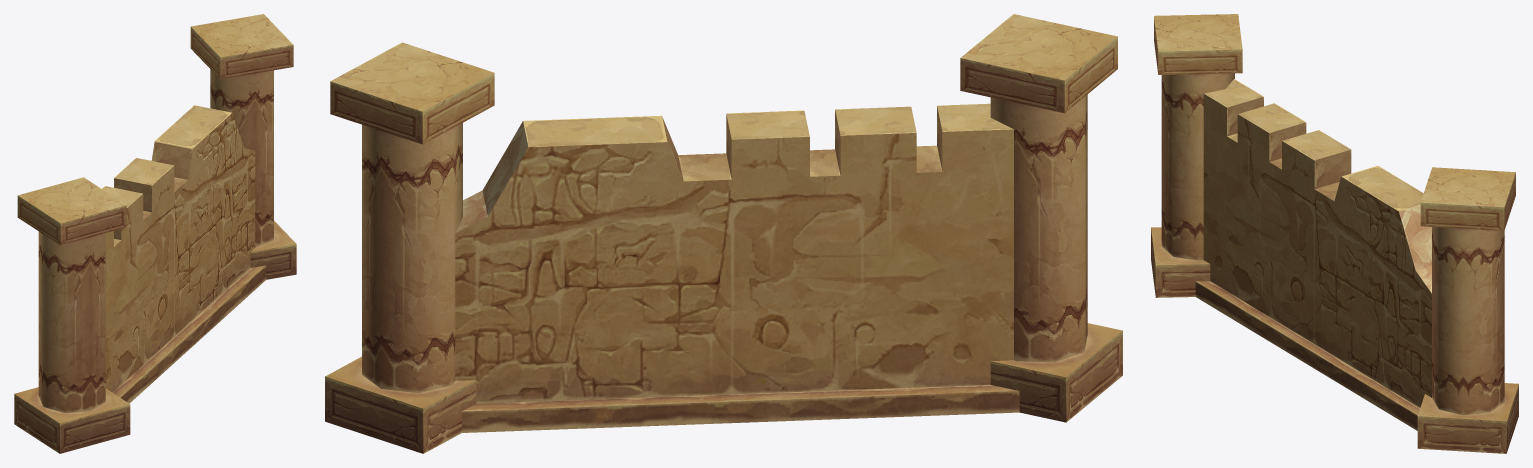
File: Area_16_7.fbx
3 views of the same model, side by side, from view 1: azimuth 30°, elevation 25°; view 2: azimuth 150°, elevation 25°; view 3: azimuth 270°, elevation 25° (orthographic). The views are drawn at different scales.
Parts seen in each view (by area): view 1: Area_16_7; view 2: Area_16_7; view 3: Area_16_7.
Boxes of the visible parts, box(x1,y1,x2,y2) form: Area_16_7: box(14, 14, 296, 453); Area_16_7: box(325, 14, 1122, 453); Area_16_7: box(1151, 14, 1518, 453).
Bounding box in the file's own units: 702 × 409 × 557.
